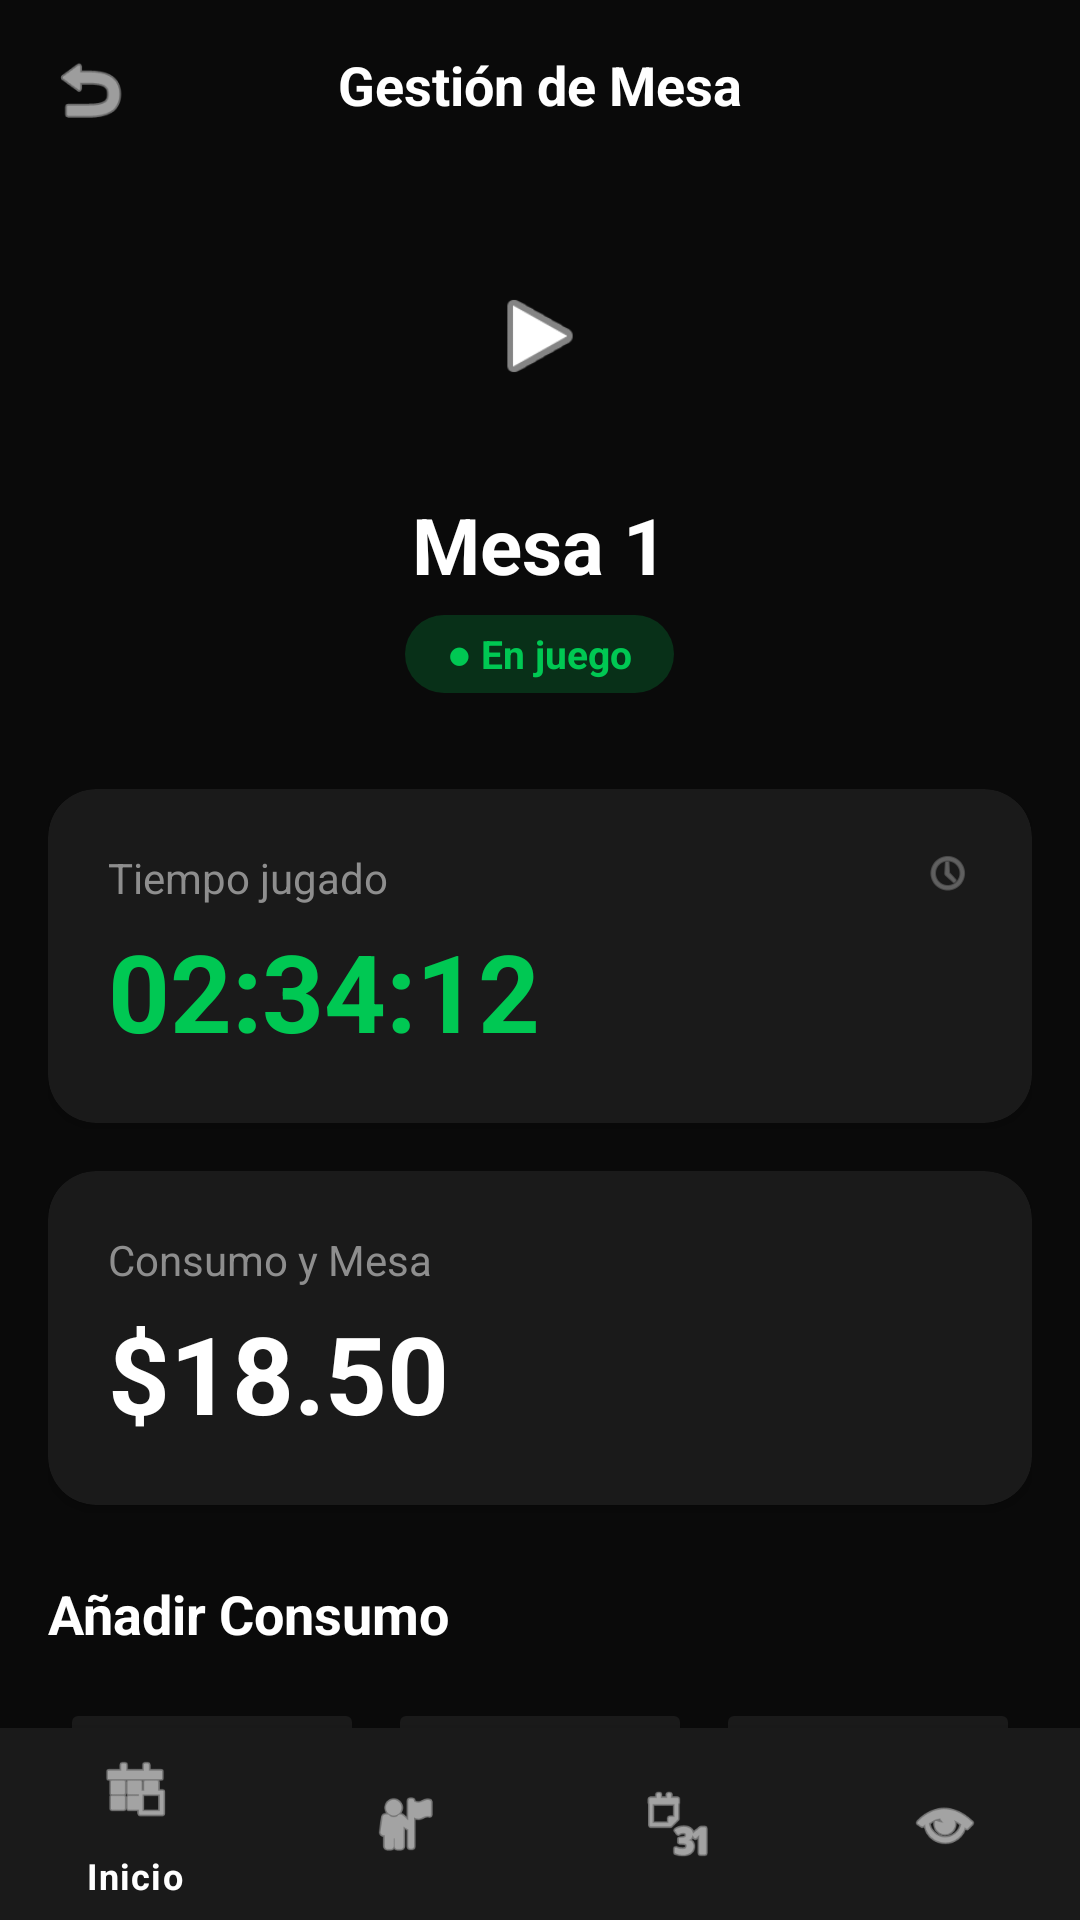

Screen size 1080x1920. Icon name, then its box in pixels as box(x1, y1, x2, y2):
Back: box(61, 63, 122, 118)
recent history: box(930, 856, 965, 891)
